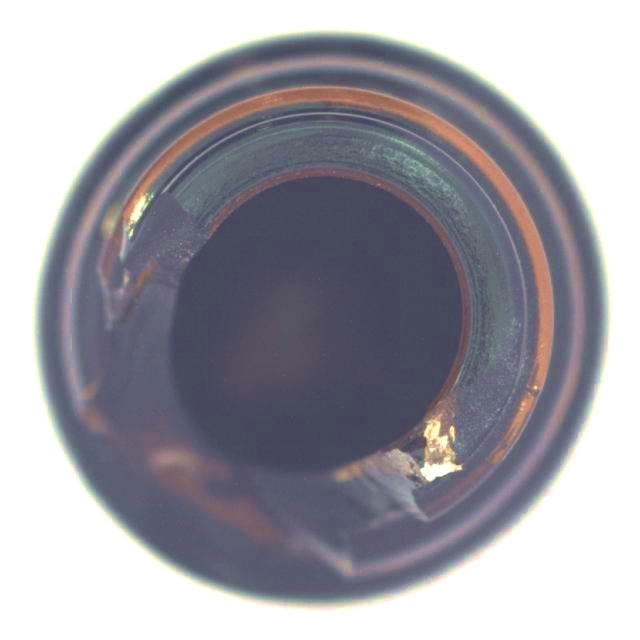bad-broken_large: (33, 31, 611, 613)
